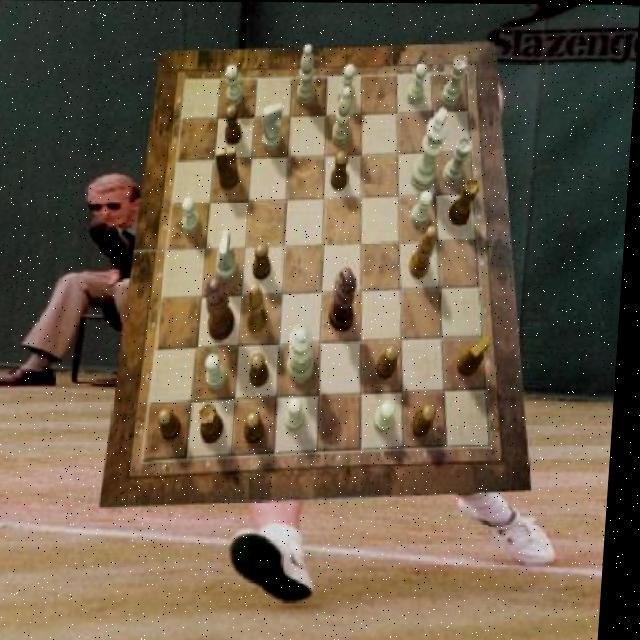bishop: (413, 224, 441, 278), (249, 283, 274, 334)
black-bishop: (334, 267, 363, 331)
black-king: (460, 335, 498, 377), (215, 146, 243, 190)
black-knight: (416, 403, 442, 437), (380, 344, 404, 379), (161, 409, 187, 441), (226, 106, 246, 146), (333, 149, 352, 190), (256, 243, 276, 281), (255, 352, 276, 387), (251, 412, 272, 445)
black-pawn: (207, 275, 243, 341)
black-queen: (451, 178, 483, 226), (205, 404, 231, 444)
black-rook: (334, 86, 355, 147), (298, 44, 319, 105)
white-bishop: (411, 107, 451, 191)
white-king: (219, 229, 243, 280), (263, 102, 286, 151)
white-knight: (413, 190, 437, 227), (209, 354, 233, 390), (224, 65, 245, 106), (408, 61, 428, 103), (183, 196, 204, 234), (291, 397, 313, 432), (338, 65, 357, 105), (380, 401, 402, 433)
white-pawn: (291, 323, 321, 383)
white-queen: (444, 136, 474, 184), (442, 55, 469, 107)
